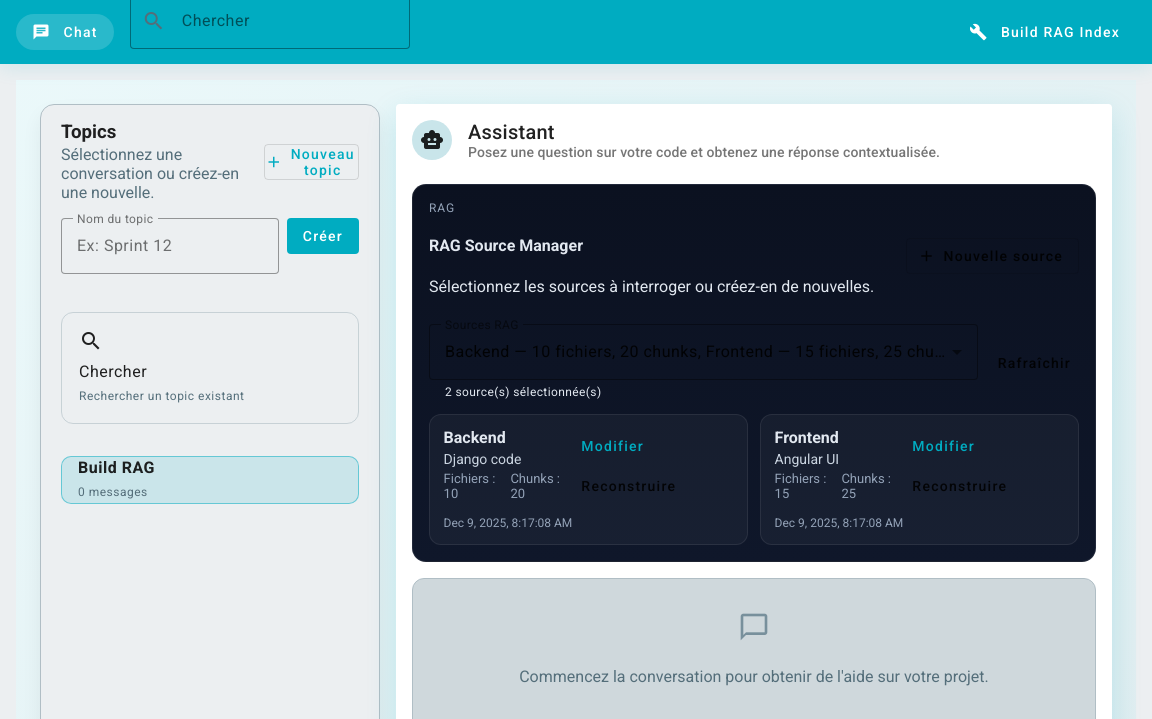
Test: RAG sources management › builds a new RAG source from the UI
Click the button with test id "toggle-build-source". click: point(993, 256)
box: left=906, top=238, right=1080, bottom=274
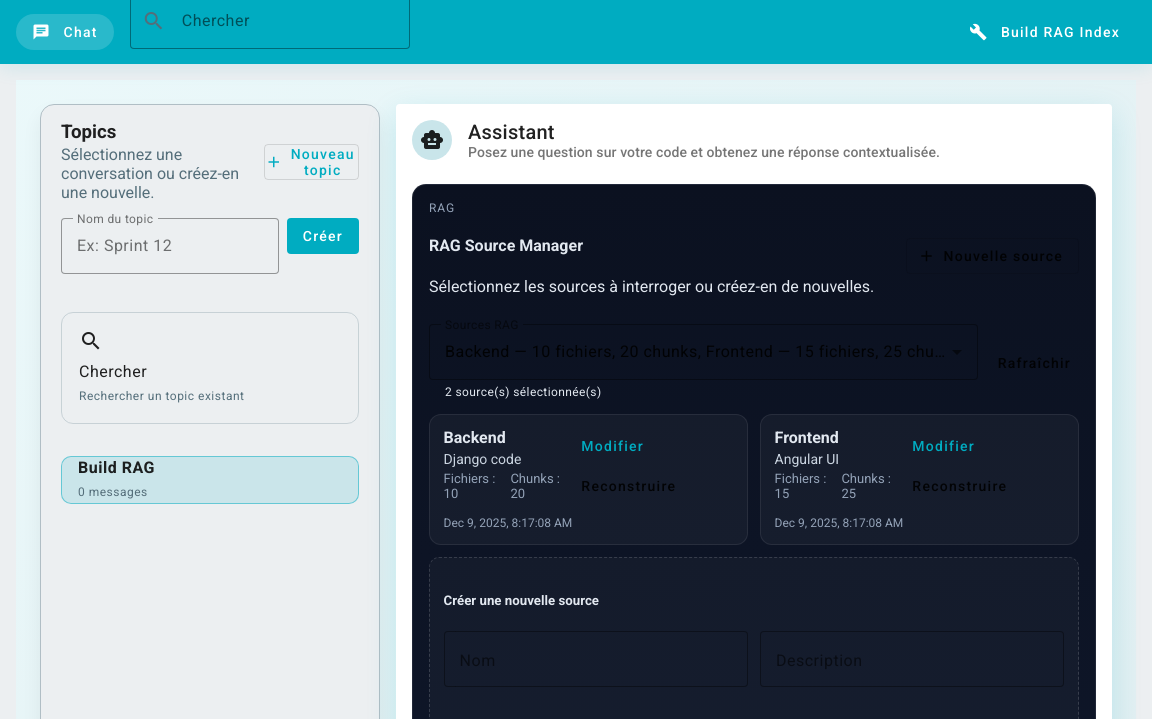
Type "Docs" into the field with test id "build-source-name". click: point(596, 659)
box: left=460, top=647, right=732, bottom=671
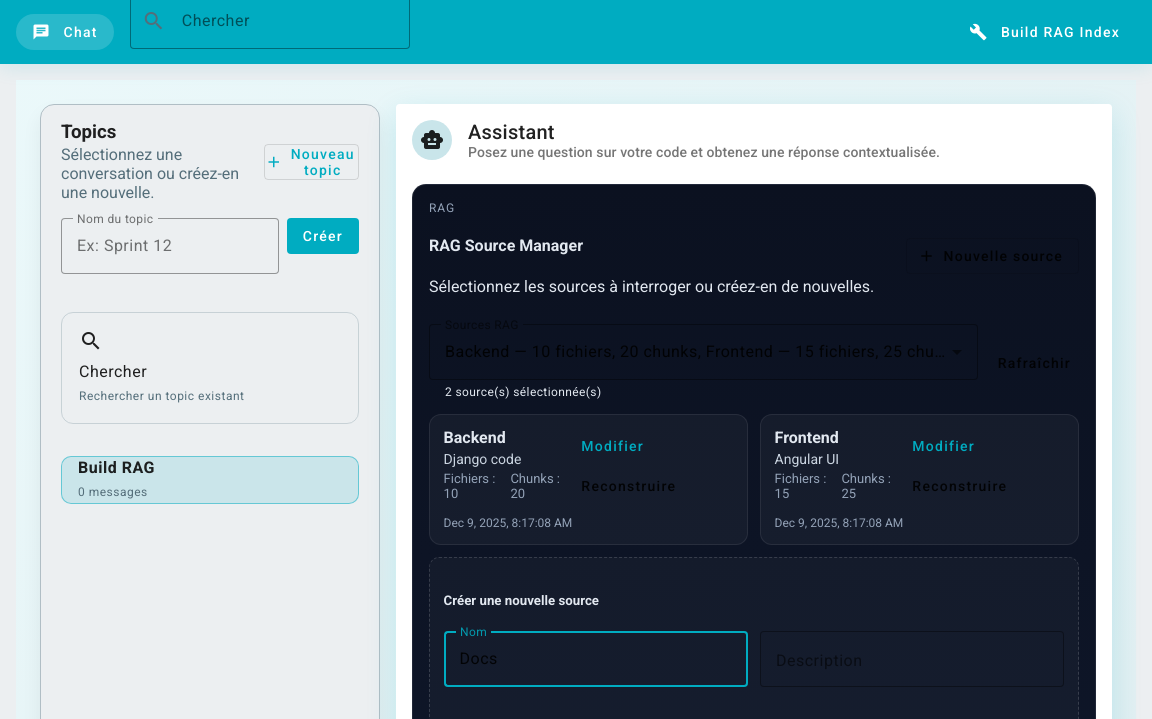
Type "Docs portal" into the field with test id "build-source-description". click: point(912, 659)
box: left=776, top=647, right=1048, bottom=671
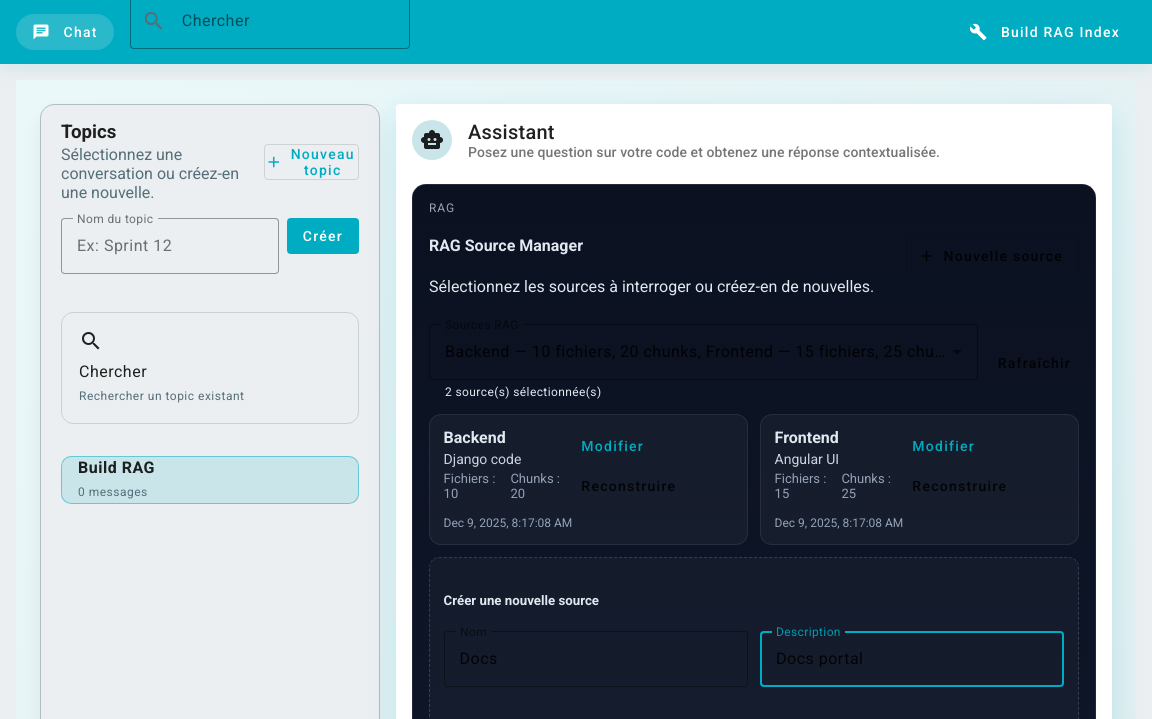
Scroll
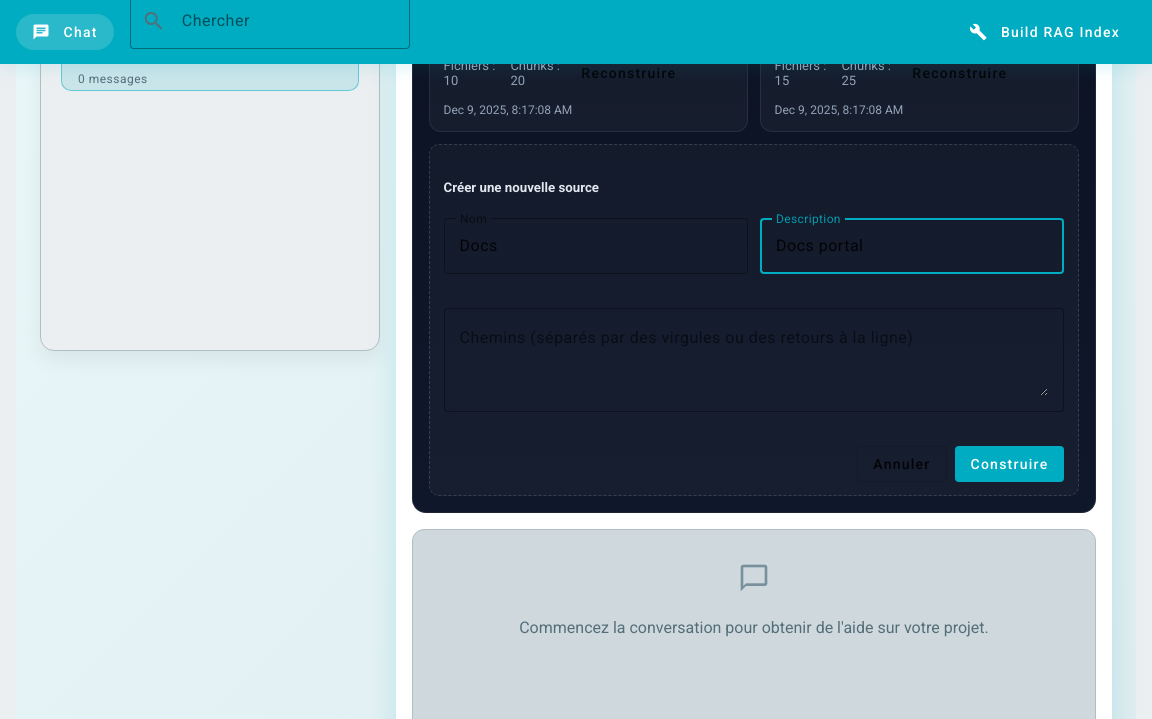
Type "/tmp/docs" into the text box with test id "build-source-paths". click: point(755, 360)
box: left=460, top=324, right=1049, bottom=396
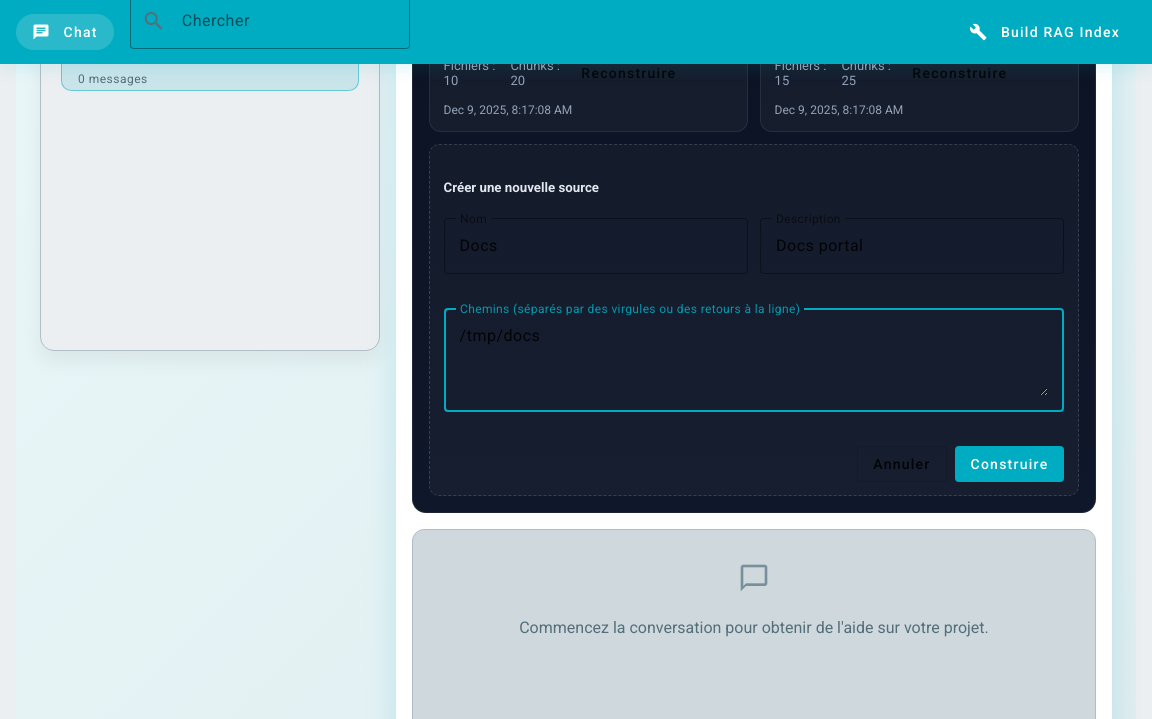
Click the button with test id "submit-build-source". click: point(1010, 464)
box: left=955, top=446, right=1065, bottom=482
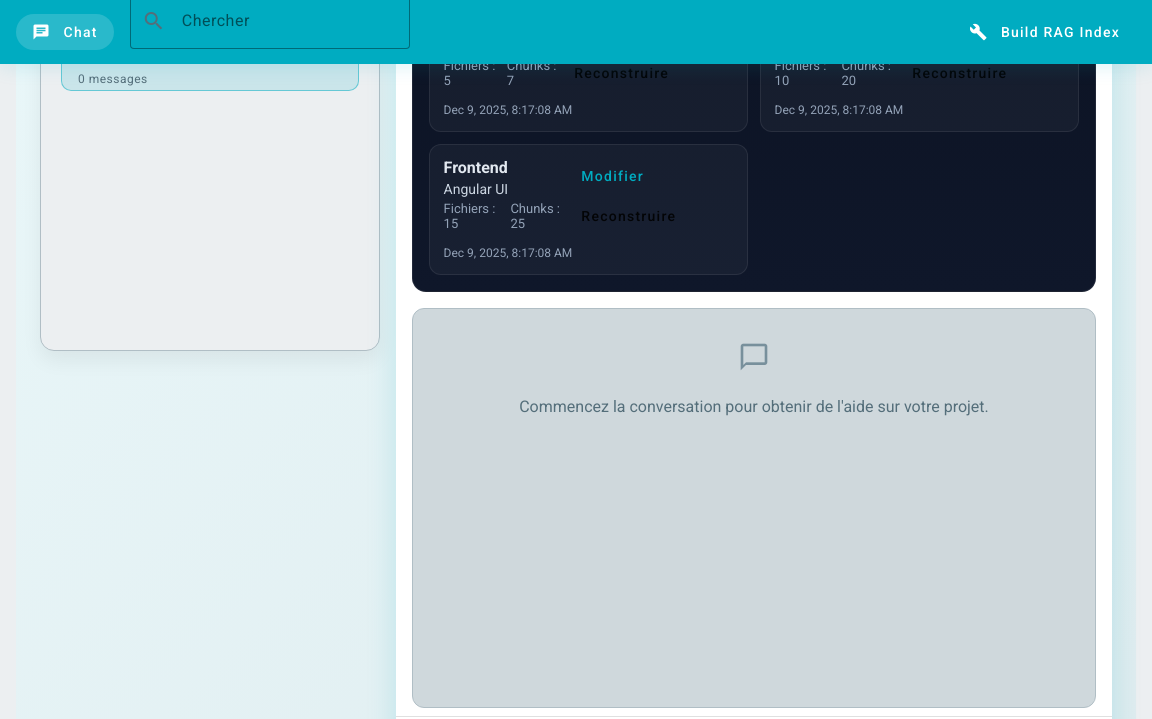
Expected: the text "Docs" shows "7", left=507, top=58, right=557, bottom=88
